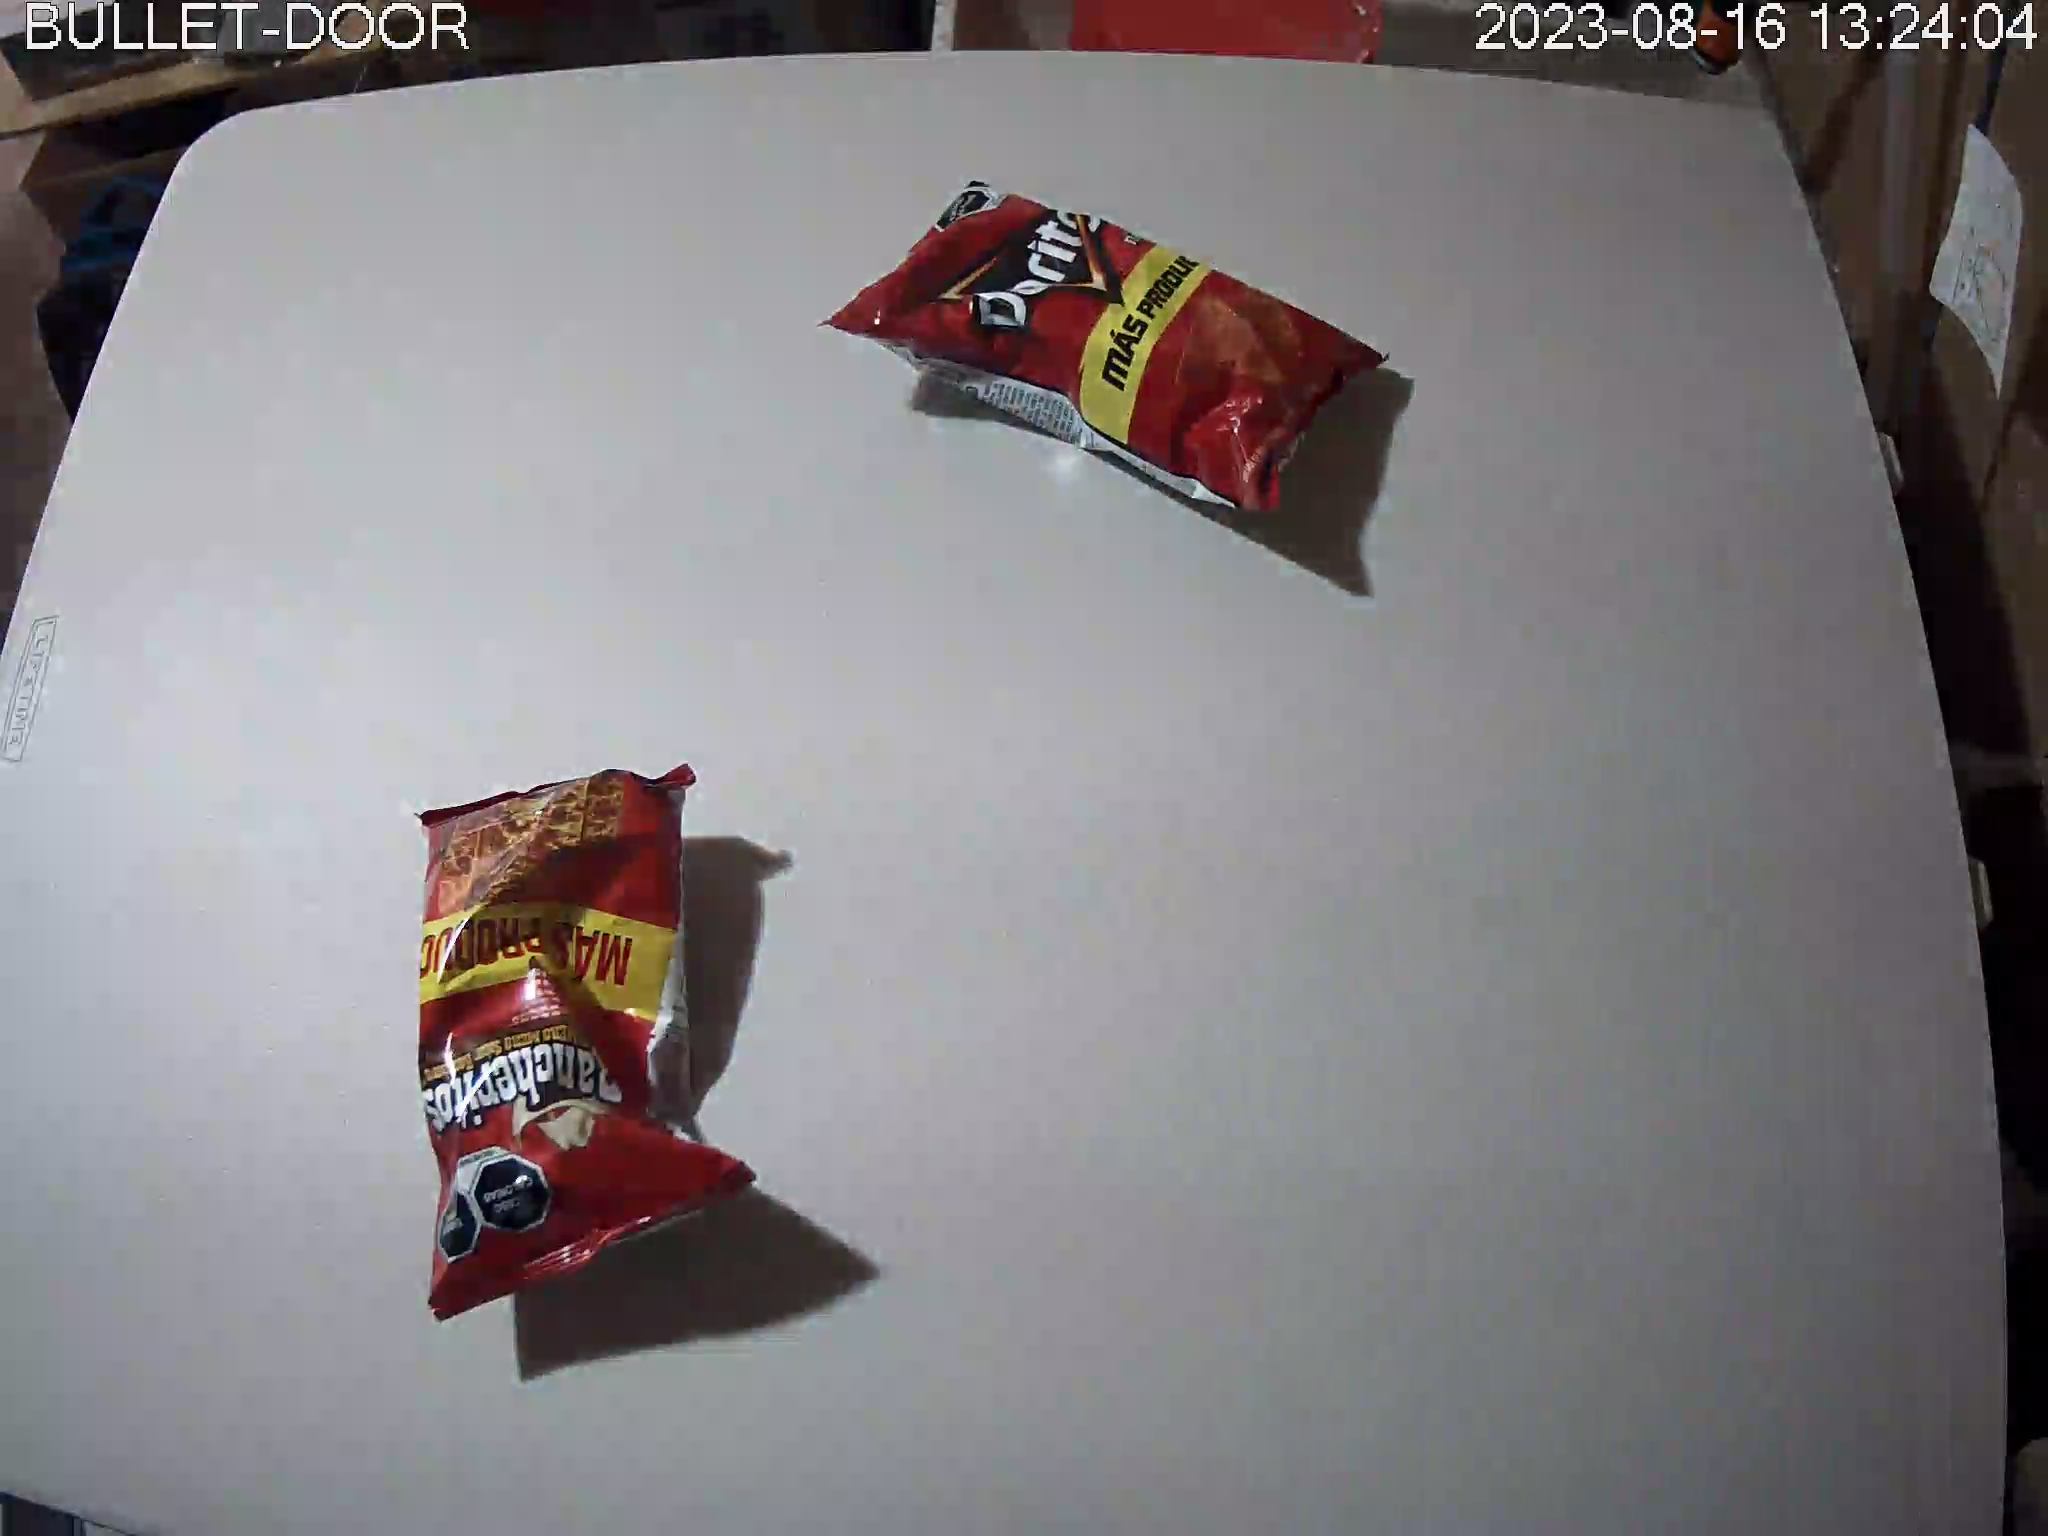DoritosN_61_F: (818, 182, 1388, 518)
Rancheritos_58_F: (416, 766, 761, 1323)
